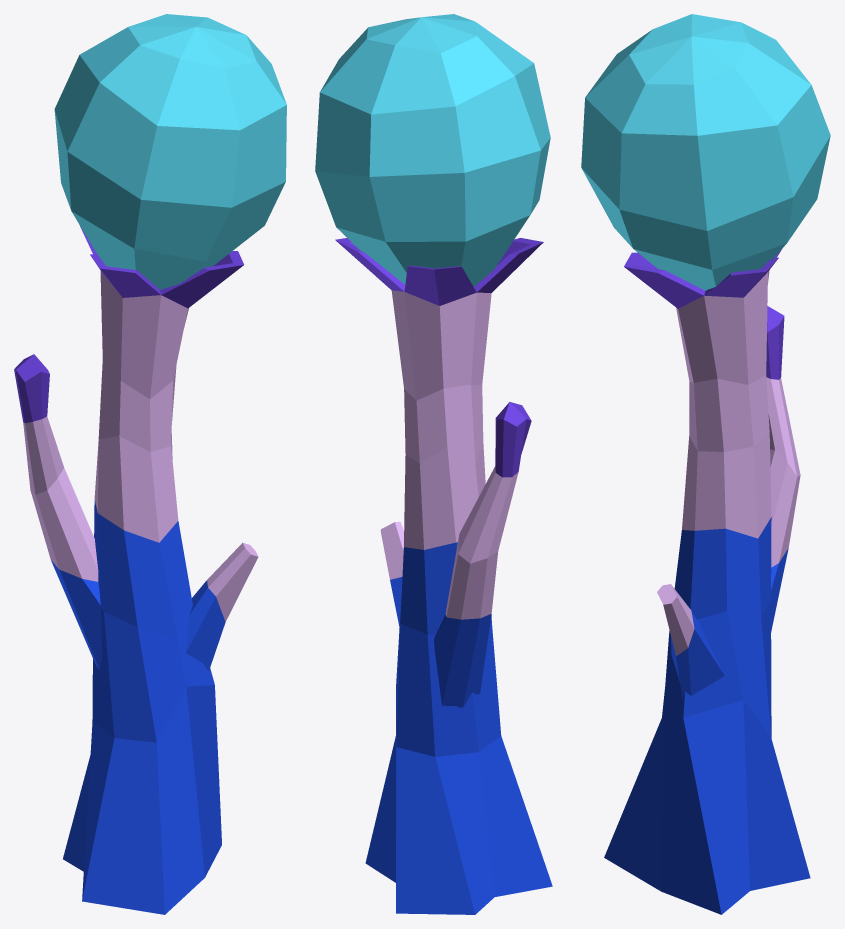
File: 094_SciFiTree.fbx
3 renders of one model, left to right at view 1: azimuth 30°, elevation 25°; view 2: azimuth 150°, elevation 25°; view 3: azimuth 270°, elevation 25°, orthographic. The views are drawn at different scales.
Parts seen in each view (by area): view 1: SciFiTree; view 2: SciFiTree; view 3: SciFiTree.
Part boxes in pixels (<box>): SciFiTree: <box>14,14,286,914</box>; SciFiTree: <box>315,14,552,914</box>; SciFiTree: <box>581,14,830,914</box>.
Bounding box in the file's own units: 28.17 × 100 × 26.44.
